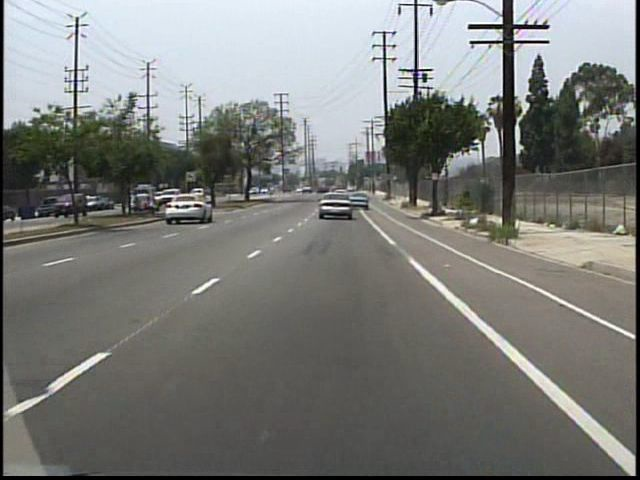person: (86, 192, 95, 213)
